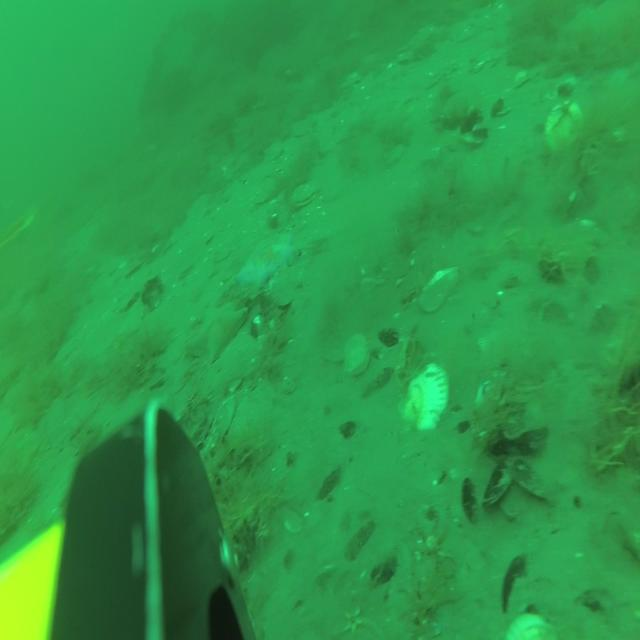scallop: (399, 366, 446, 432), (421, 260, 460, 312), (546, 98, 584, 148), (504, 611, 552, 640), (342, 336, 370, 375), (324, 168, 349, 204), (291, 183, 318, 206)
starfish: (186, 301, 248, 361), (231, 232, 295, 288)
